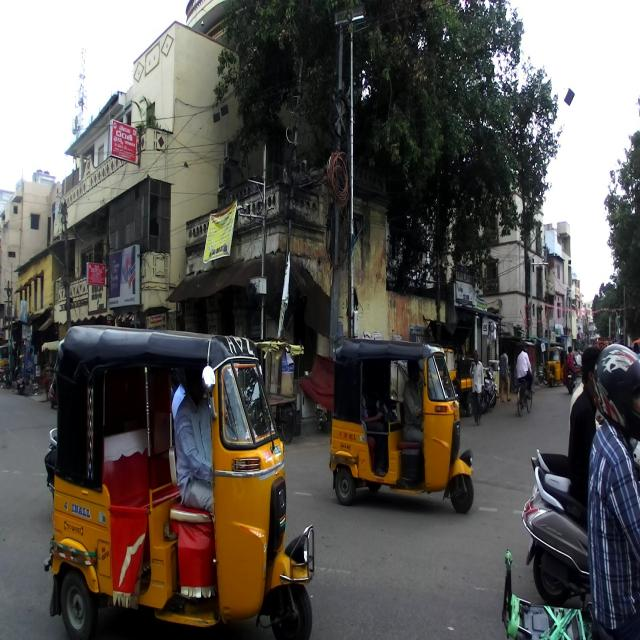autorickshaw: (43, 324, 315, 638), (327, 334, 475, 514)
motorcycle_TVS: (500, 546, 605, 638)
scooter: (522, 463, 596, 608)
